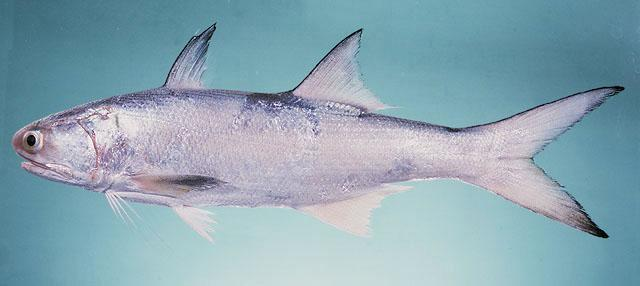Mulut: (2, 124, 82, 196)
Sirip Anal: (286, 177, 422, 246)
Sirip Dada: (120, 161, 240, 203)
Sirip Ekor: (452, 78, 632, 246)
Sirip Perut: (162, 194, 222, 250)
Sirip Punggung: (157, 15, 406, 122)
